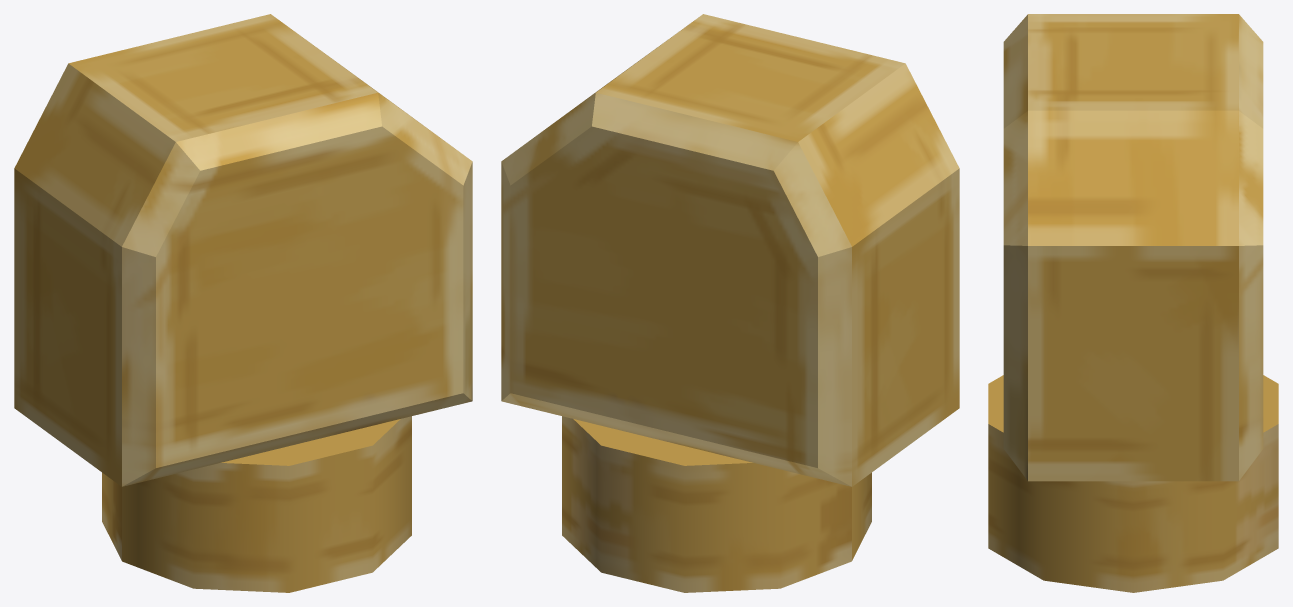
File: smoke_fuze.fbx
The picture shows the model from 3 angles, left to right: view 1: azimuth 30°, elevation 25°; view 2: azimuth 150°, elevation 25°; view 3: azimuth 270°, elevation 25°; orthographic projection.
Parts seen in each view (by area): view 1: smoke_fuze; view 2: smoke_fuze; view 3: smoke_fuze.
Boxes of the visible parts, box(x1,y1,x2,y2) form: smoke_fuze: box(14, 14, 472, 592); smoke_fuze: box(501, 14, 959, 592); smoke_fuze: box(988, 14, 1278, 592).
Size of the model in its own units: 0.0975 by 0.1219 by 0.0713.
